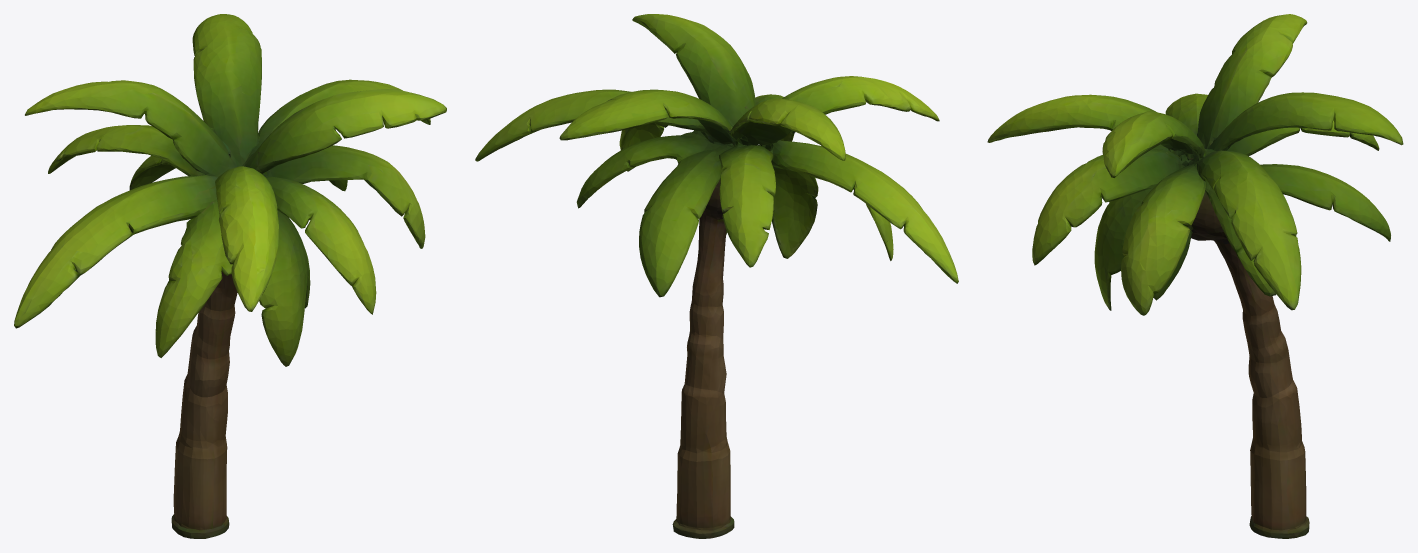
File: palm-tree-2.glb
3 renders of one model, left to right at view 1: azimuth 30°, elevation 25°; view 2: azimuth 150°, elevation 25°; view 3: azimuth 270°, elevation 25°, orthographic. The views are drawn at different scales.
Visible parts, largest first — view 1: world; view 2: world; view 3: world.
Part boxes in pixels (x1=…): world: x1=14, y1=14, x2=446, y2=538; world: x1=475, y1=14, x2=958, y2=538; world: x1=987, y1=14, x2=1403, y2=538.
Bounding box in the file's own units: 0.9956 × 0.9594 × 0.7947.
Materials: 1 (1 with a texture image).
